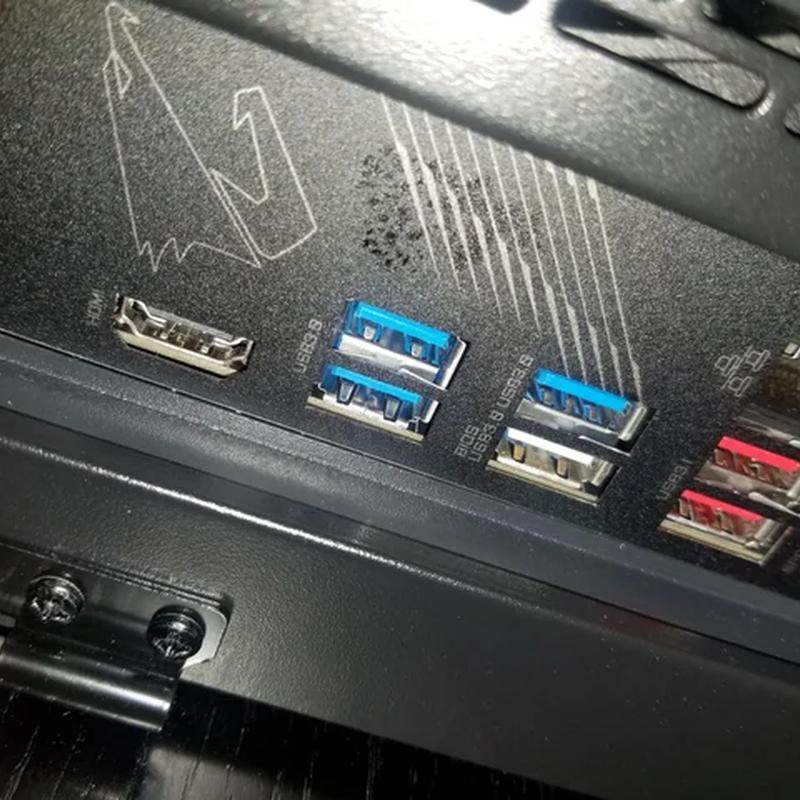HDMI: (102, 276, 262, 398)
USB: (470, 410, 618, 515), (312, 349, 442, 463), (497, 352, 646, 441), (328, 294, 470, 378), (659, 481, 772, 571), (705, 423, 799, 497)
